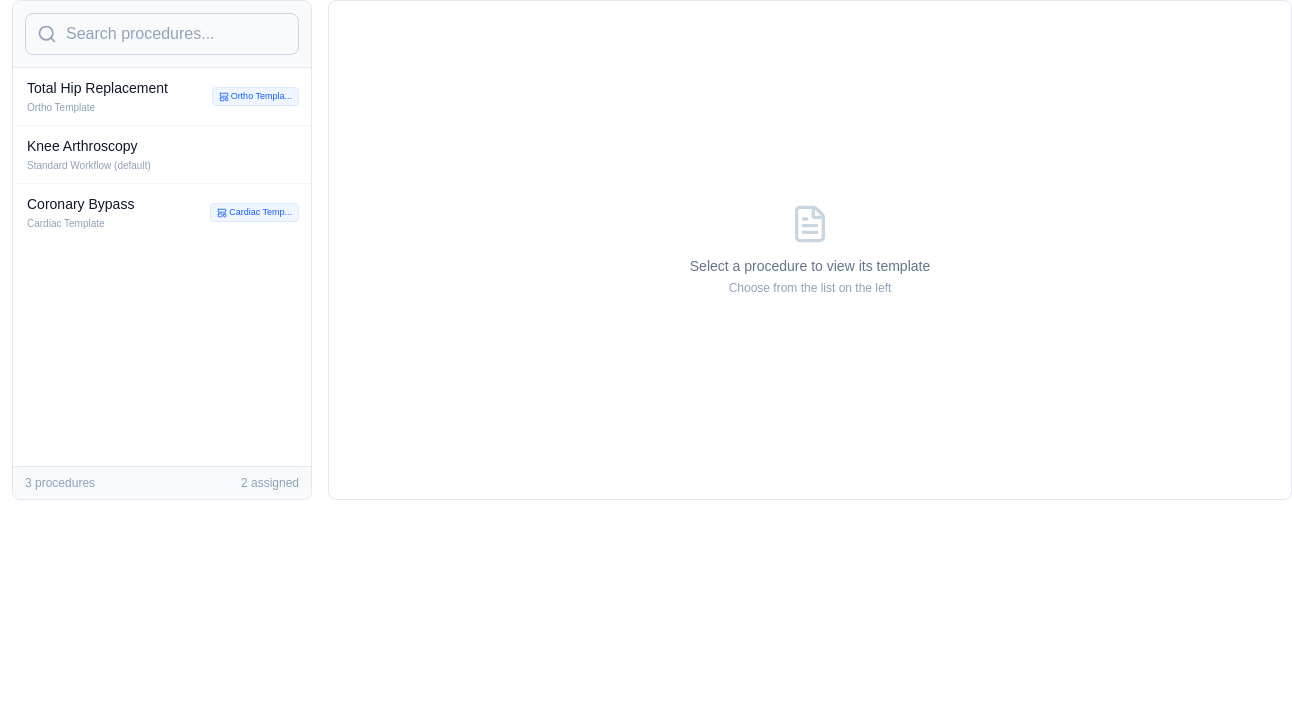
Test: ProcedureTemplateAssignment › template assignment › opens template picker after selecting procedure
The image size is (1292, 720).
# Select a procedure first
Click the text "Knee Arthroscopy".
click(82, 146)  # box [27,138,138,154]
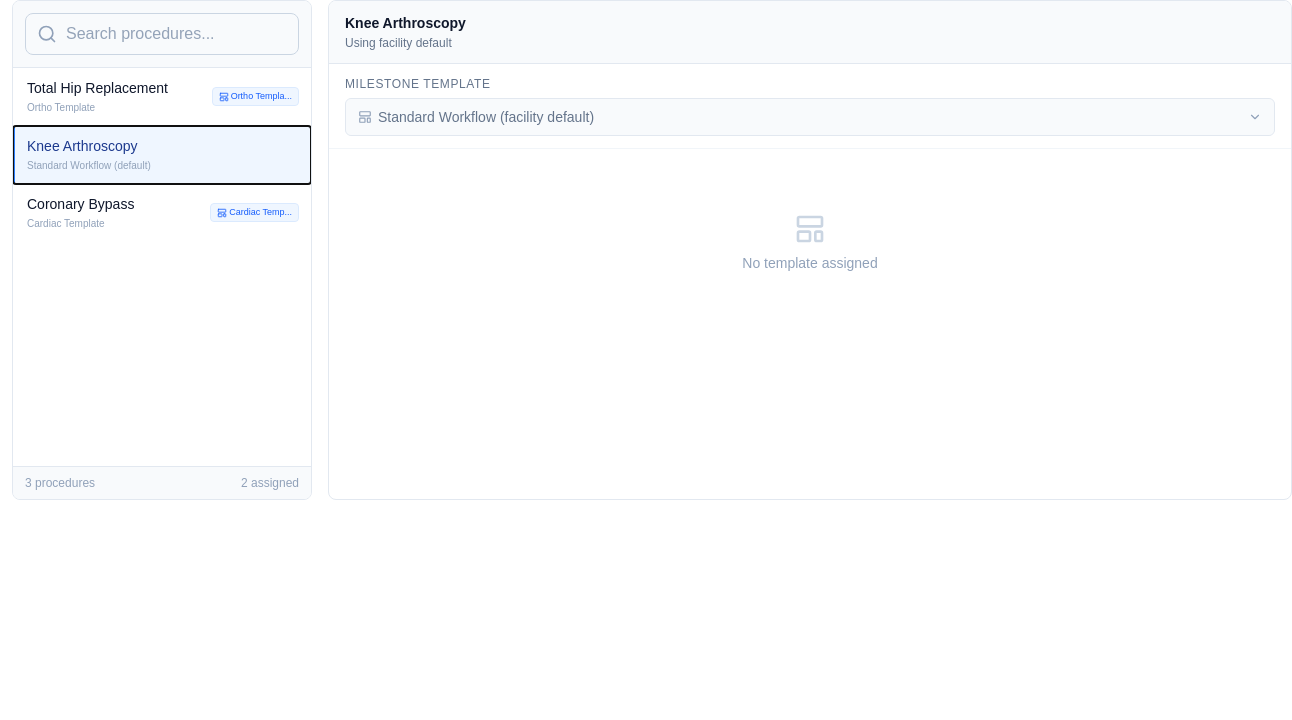
# Click the template picker in the detail panel (scope to picker container)
Click the button "Standard Workflow (facility default)".
click(486, 117)  # box [345,98,1275,136]
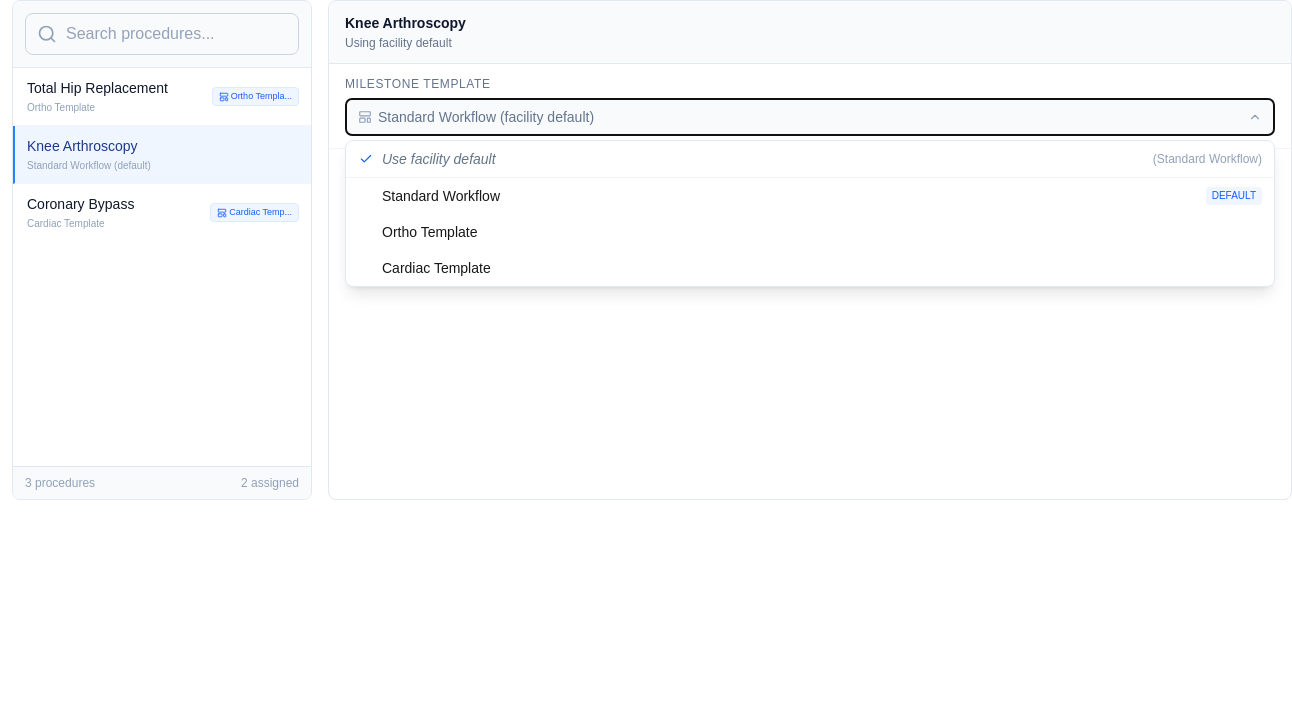
Check: the text "Use facility default" is shown, box [382,149,496,169]
Check: the text "Ortho Template" is shown, box [382,222,478,242]
Check: the text "Cardiac Template" is shown, box [382,258,491,278]
